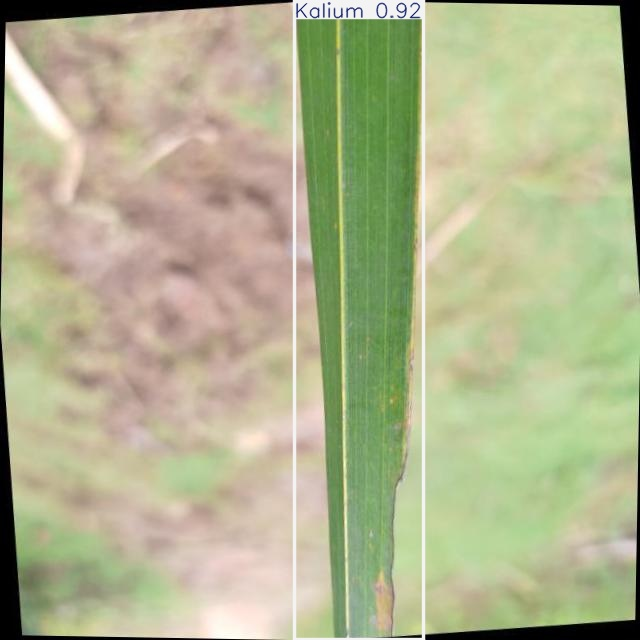Kalium: (295, 1, 424, 640)
